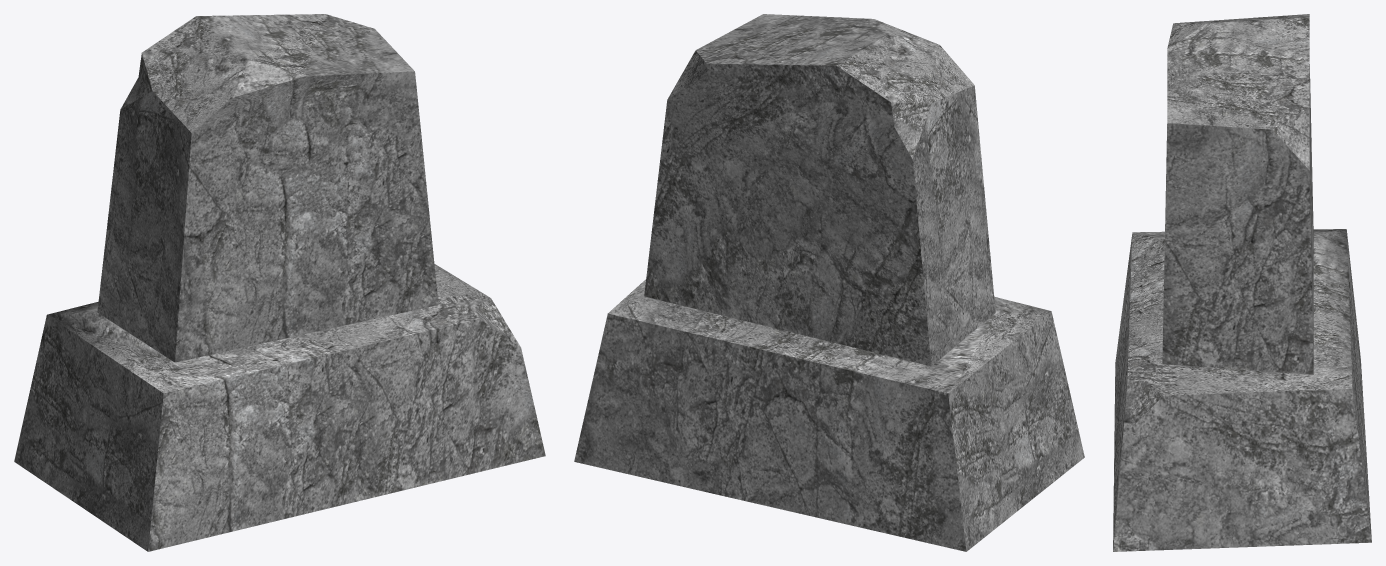
The model's file is materials_3_stone_1.fbx.
The picture shows the model from 3 angles, left to right: view 1: azimuth 30°, elevation 25°; view 2: azimuth 150°, elevation 25°; view 3: azimuth 270°, elevation 25°; orthographic projection. The views are drawn at different scales.
Parts seen in each view (by area): view 1: materials_3_stone_1; view 2: materials_3_stone_1; view 3: materials_3_stone_1.
Part boxes in pixels (x1=…): materials_3_stone_1: x1=14, y1=14, x2=545, y2=551; materials_3_stone_1: x1=574, y1=14, x2=1084, y2=551; materials_3_stone_1: x1=1113, y1=14, x2=1371, y2=551.
Size of the model in its own units: 92.83 by 93.61 by 52.76.
